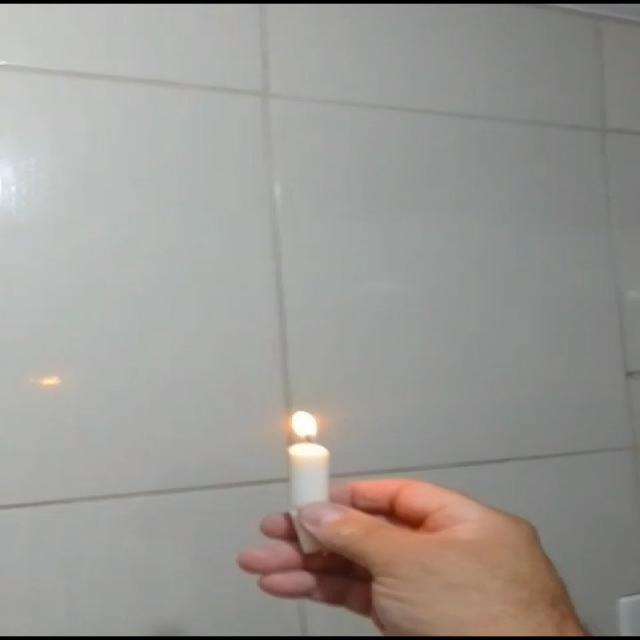fogo-ypXI: (287, 407, 323, 443)
